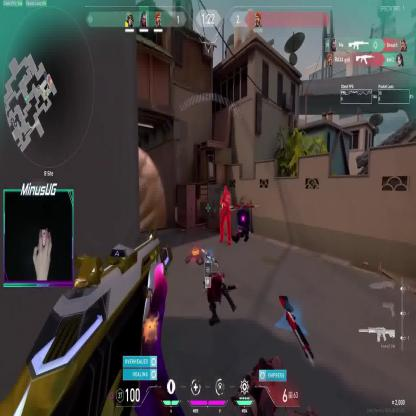enemy: (219, 184, 231, 246)
enemy_head: (223, 185, 228, 193)
